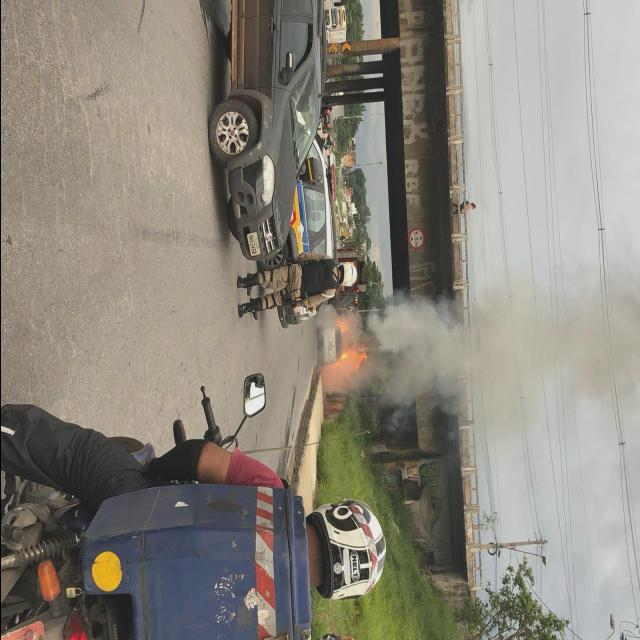Fire: (320, 314, 364, 389)
